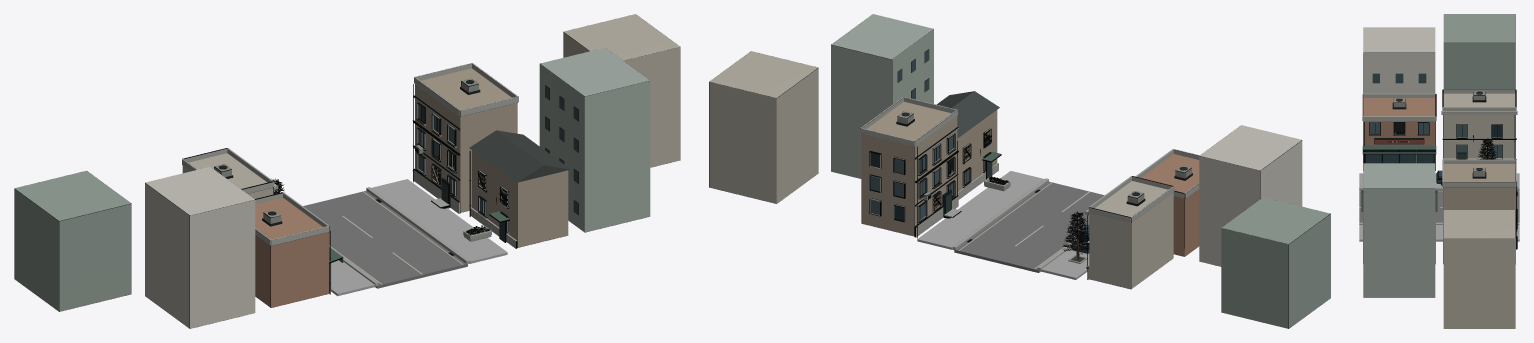
File: city_hd_01.glb
3 renders of one model, left to right at view 1: azimuth 30°, elevation 25°; view 2: azimuth 150°, elevation 25°; view 3: azimuth 270°, elevation 25°, orthographic. The views are drawn at different scales.
Visible parts, largest first — view 1: Architectural lettering, CITY_PBR_asphalt, CITY_PBR_pavement, CITY_curb; view 2: Architectural lettering, CITY_PBR_asphalt, CITY_PBR_pavement, CITY_curb; view 3: Architectural lettering, CITY_PBR_asphalt, CITY_PBR_pavement.
Part boxes in pixels (<box>): Architectural lettering: <box>14,14,680,328</box>; CITY_PBR_asphalt: <box>303,191,467,288</box>; CITY_PBR_pavement: <box>331,179,507,296</box>; CITY_curb: <box>329,187,469,286</box>; Architectural lettering: <box>709,14,1330,328</box>; CITY_PBR_asphalt: <box>954,181,1104,272</box>; CITY_PBR_pavement: <box>917,171,1089,279</box>; CITY_curb: <box>952,178,1076,271</box>; Architectural lettering: <box>1361,14,1517,328</box>; CITY_PBR_asphalt: <box>1359,190,1519,222</box>; CITY_PBR_pavement: <box>1359,173,1519,241</box>.
Size of the model in its own units: 57.3 by 12.26 by 16.
9 materials, 1 textured.
